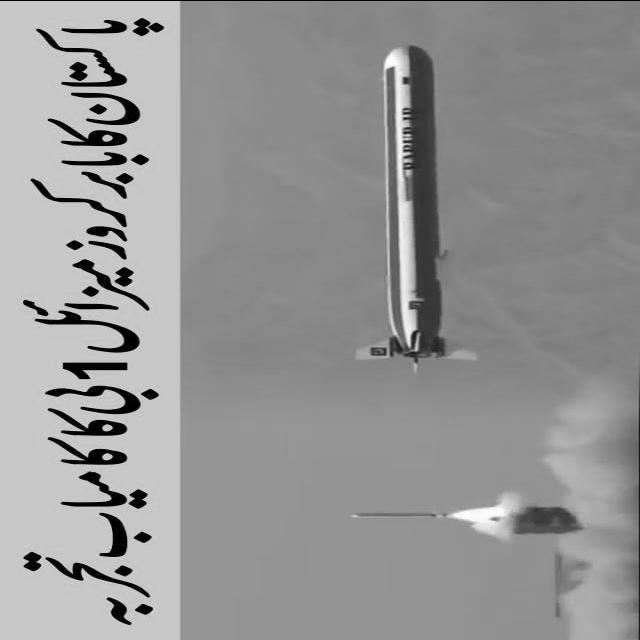missile: (383, 42, 454, 363), (347, 509, 450, 519)
